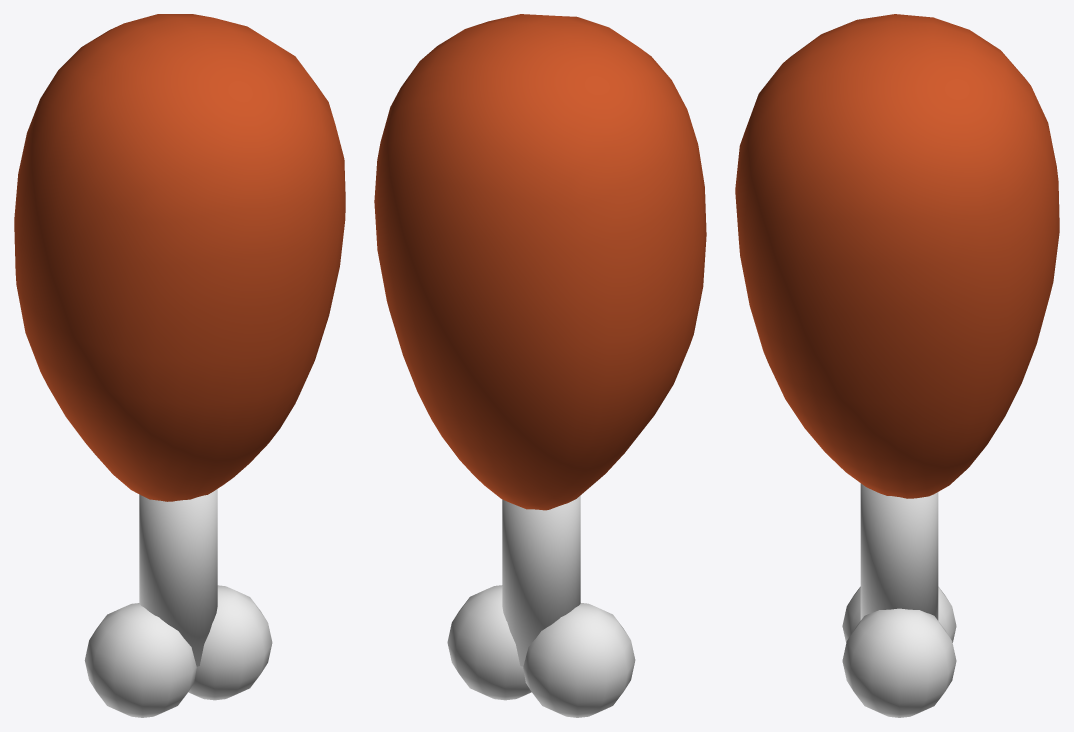
The model's file is Chiken thigh.fbx.
The picture shows the model from 3 angles, left to right: view 1: azimuth 30°, elevation 25°; view 2: azimuth 150°, elevation 25°; view 3: azimuth 270°, elevation 25°; orthographic projection.
Visible parts, largest first — view 1: Chiken thigh; view 2: Chiken thigh; view 3: Chiken thigh.
Boxes of the visible parts, x1,y1,x2,y2 form: Chiken thigh: [14, 14, 345, 717]; Chiken thigh: [374, 14, 706, 717]; Chiken thigh: [735, 14, 1059, 717].
Bounding box in the file's own units: 0.89 × 0.8857 × 2.
